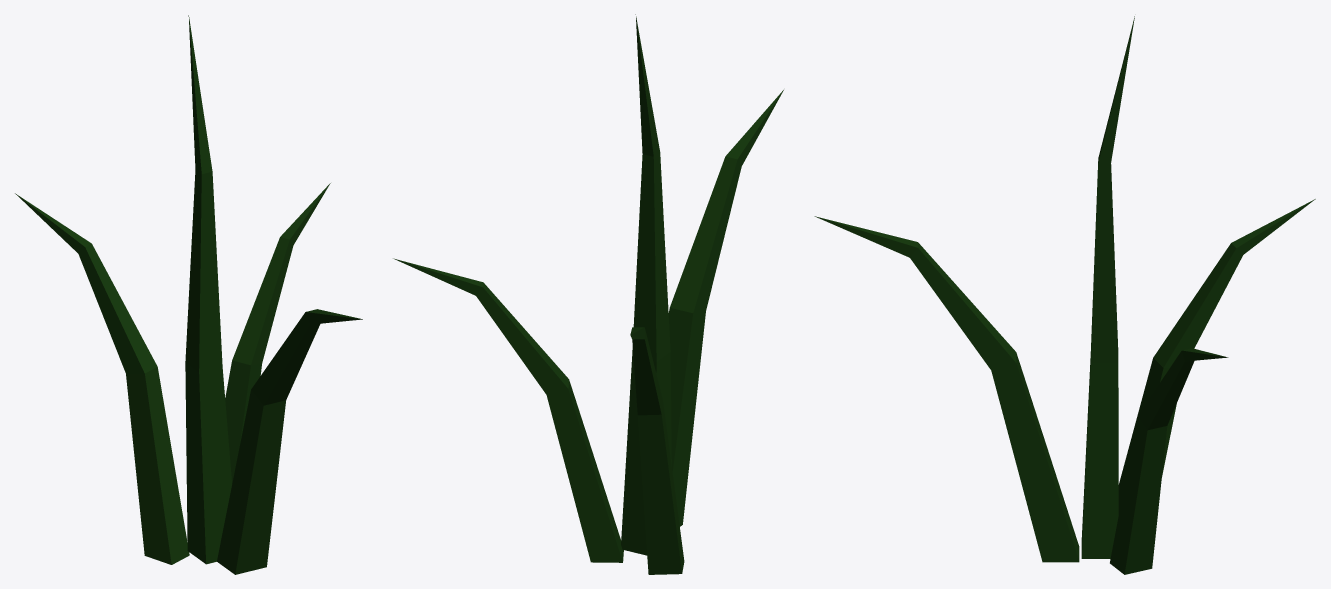
The model's file is grass1.obj.
3 renders of one model, left to right at view 1: azimuth 30°, elevation 25°; view 2: azimuth 150°, elevation 25°; view 3: azimuth 270°, elevation 25°, orthographic. The views are drawn at different scales.
Parts seen in each view (by area): view 1: Grass5.001_Cube.058; view 2: Grass5.001_Cube.058; view 3: Grass5.001_Cube.058.
Part boxes in pixels (<box>): Grass5.001_Cube.058: <box>15,15,362,574</box>; Grass5.001_Cube.058: <box>393,14,783,574</box>; Grass5.001_Cube.058: <box>814,16,1315,574</box>.
Bounding box in the file's own units: 0.8589 × 1.6 × 1.36.
